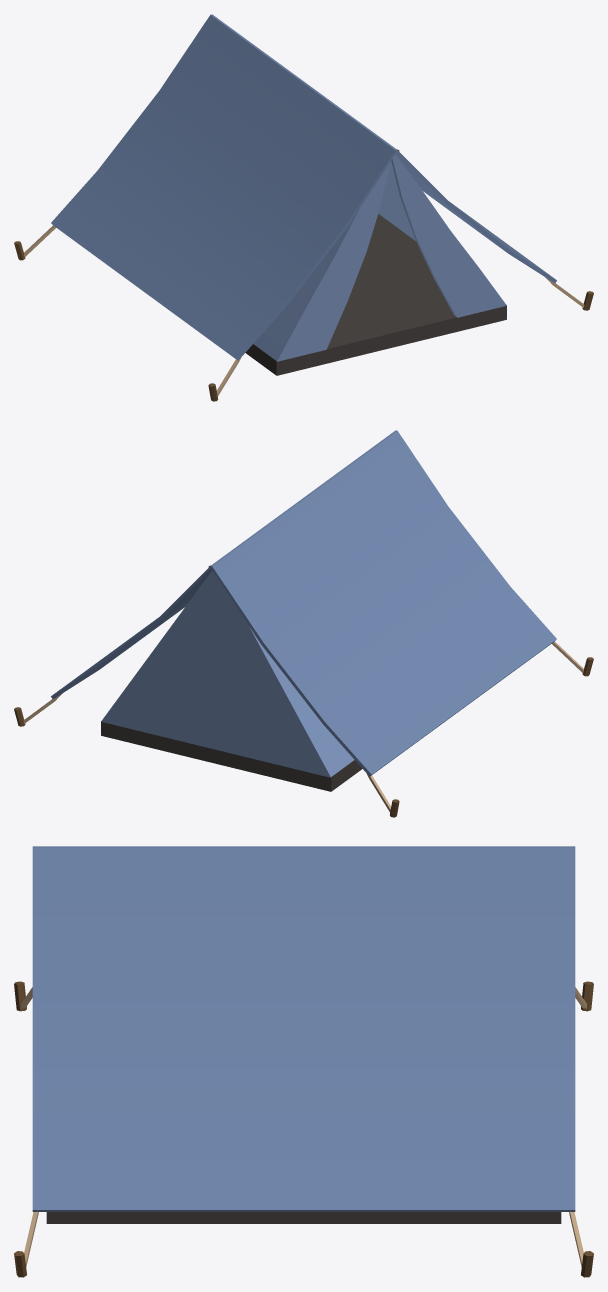
The model's file is Tent_01.glb.
3 renders of one model, top to bottom at view 1: azimuth 30°, elevation 25°; view 2: azimuth 150°, elevation 25°; view 3: azimuth 270°, elevation 25°, orthographic. The views are drawn at different scales.
Parts seen in each view (by area): view 1: Tent_01; view 2: Tent_01; view 3: Tent_01.
Boxes of the visible parts, x1,y1,x2,y2 form: Tent_01: [14, 14, 593, 401]; Tent_01: [14, 430, 593, 817]; Tent_01: [14, 846, 593, 1277].
Size of the model in its own units: 2.29 by 1.15 by 2.04.
1 material, 1 textured.
